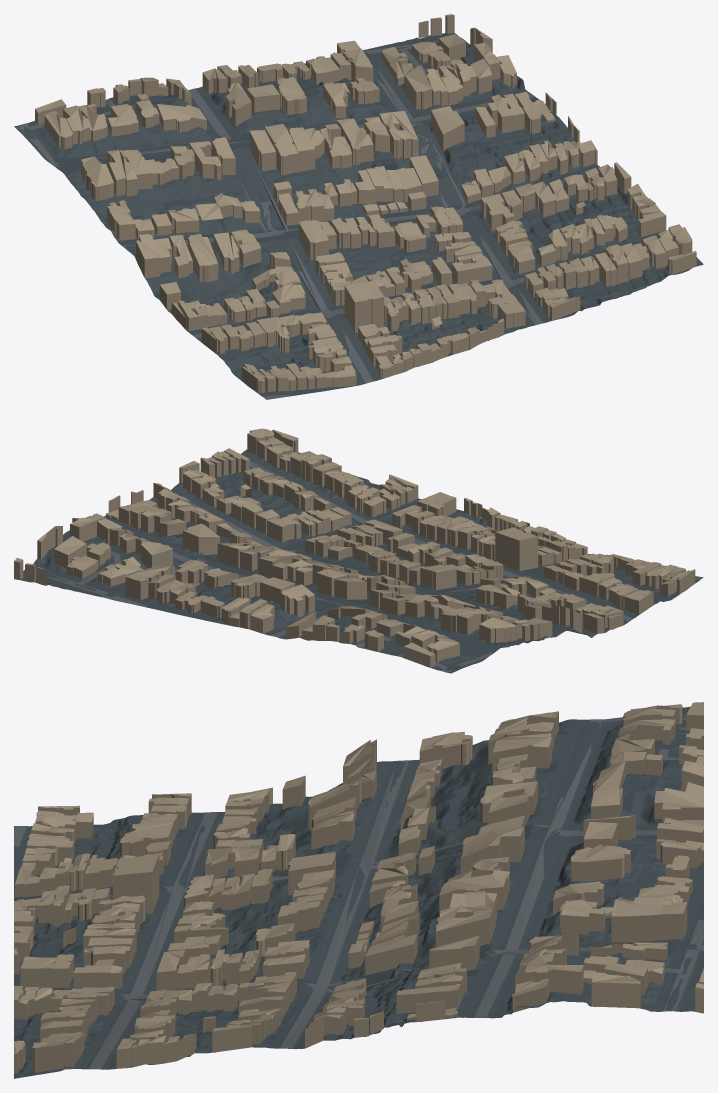
Rendered from epsg26910-1429-10893.lod0.glb.
3 renders of one model, top to bottom at view 1: azimuth 30°, elevation 25°; view 2: azimuth 150°, elevation 25°; view 3: azimuth 270°, elevation 25°, orthographic. The views are drawn at different scales.
Visible parts, largest first — view 1: epsg26910-1429-10893-lod0; view 2: epsg26910-1429-10893-lod0; view 3: epsg26910-1429-10893-lod0.
Part boxes in pixels (x1,y1,x2,y2): epsg26910-1429-10893-lod0: [14, 14, 703, 399]; epsg26910-1429-10893-lod0: [14, 428, 703, 673]; epsg26910-1429-10893-lod0: [14, 702, 703, 1078].
Bounding box in the file's own units: 384 × 97.54 × 384.
